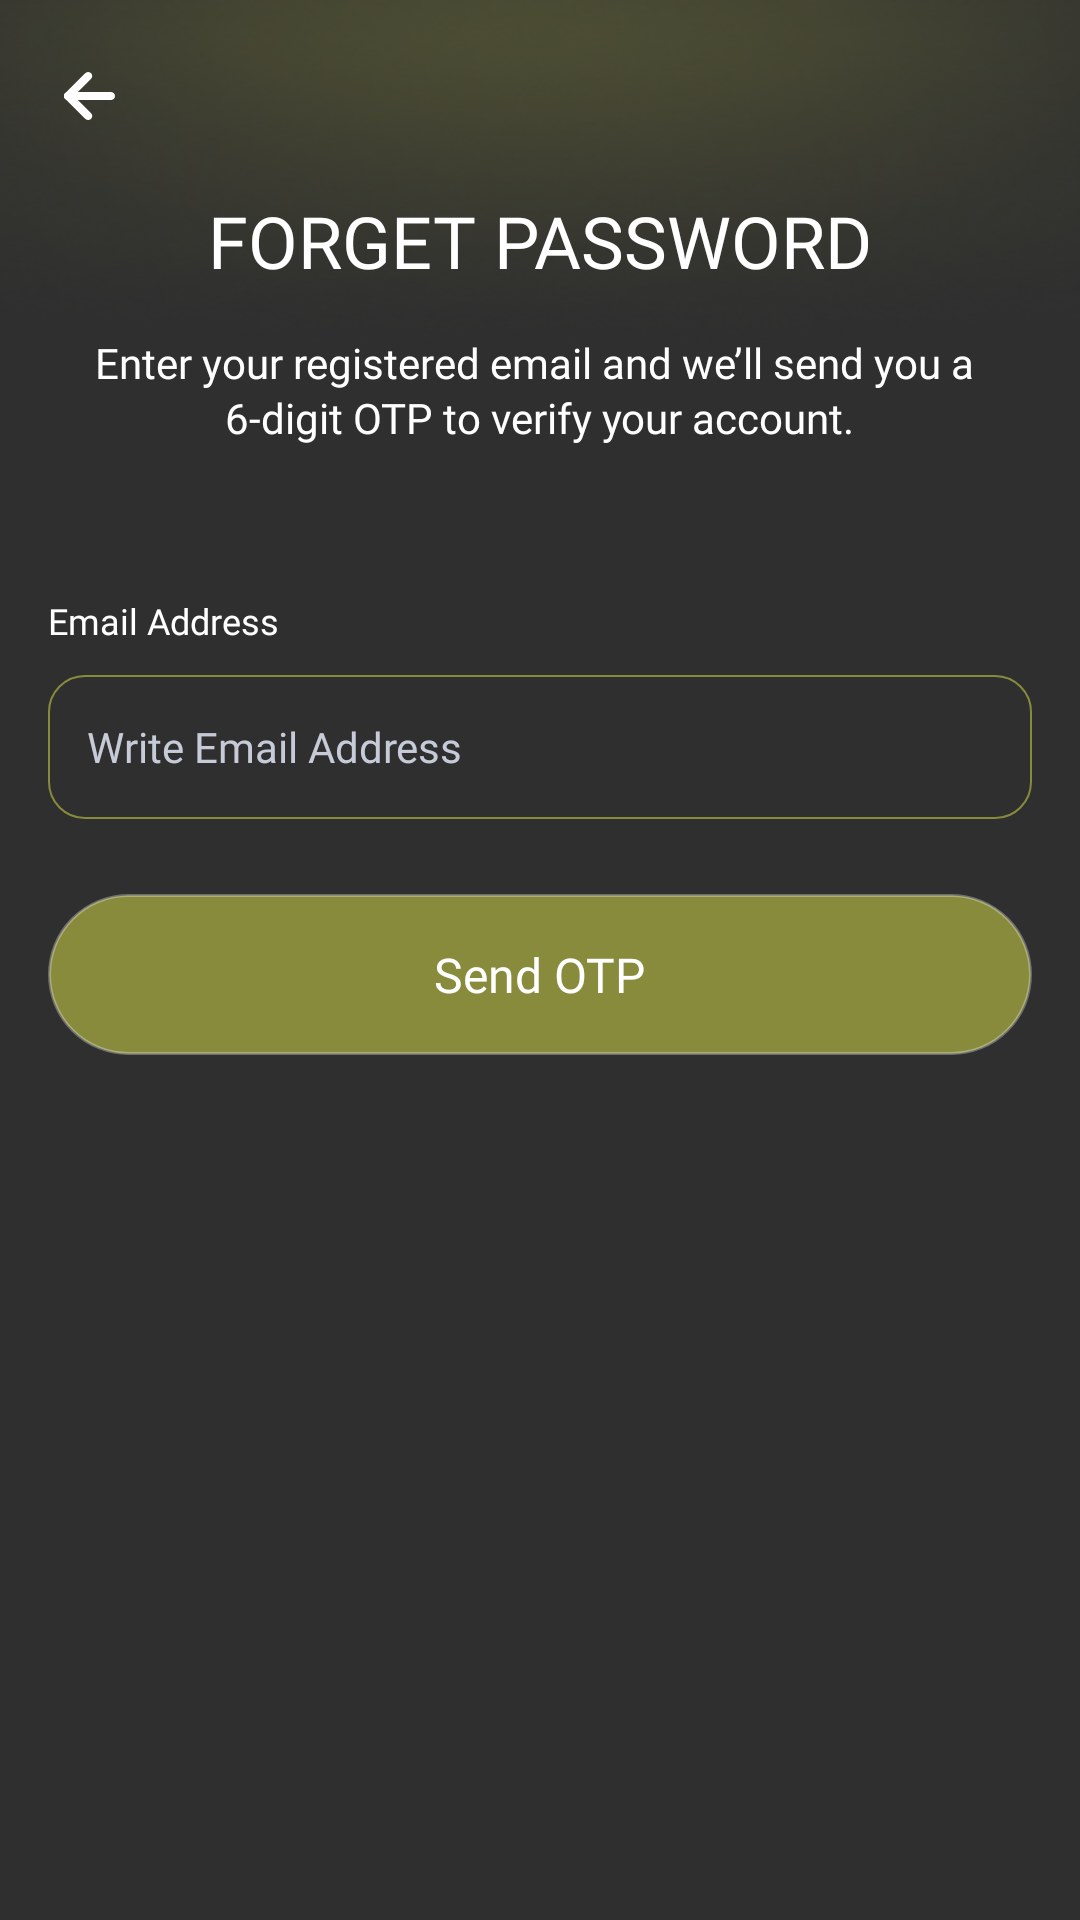

Named icons in this screenshot (1080px×1920px) and their bounding boxes, (x1, y1, x2, y2):
back arrow: (64, 72, 115, 120)
